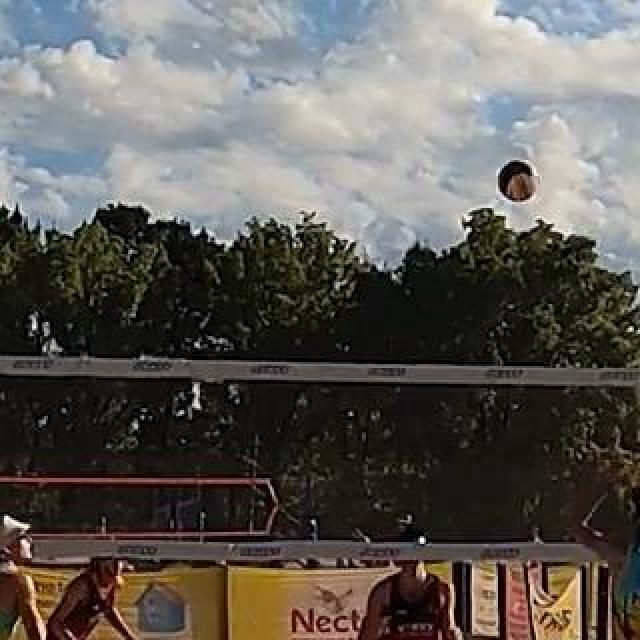volleyball: (497, 161, 537, 201)
